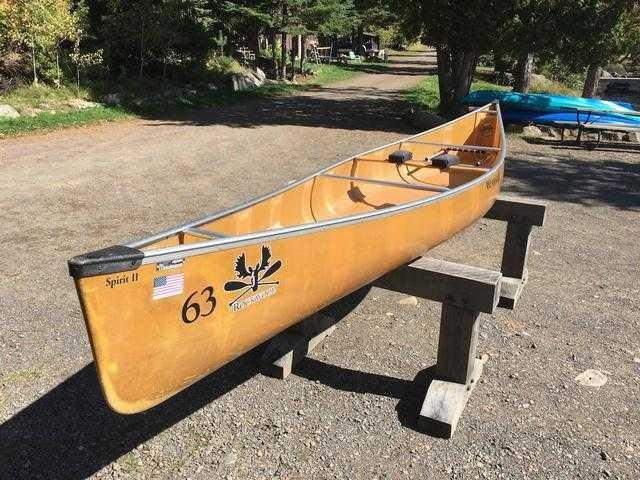kayak: (68, 102, 508, 419)
